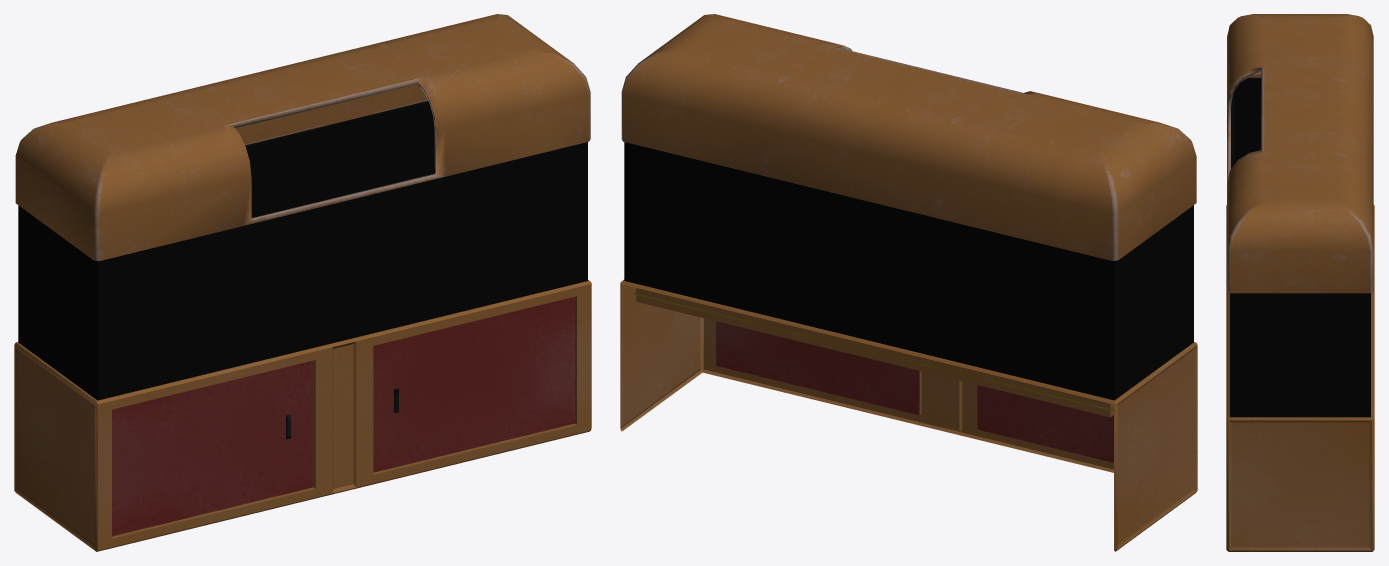
File: terrario_v2.fbx
3 views of the same model, side by side, from view 1: azimuth 30°, elevation 25°; view 2: azimuth 150°, elevation 25°; view 3: azimuth 270°, elevation 25° (orthographic). The views are drawn at different scales.
Visible parts, largest first — view 1: Vidrio_terrario, Base_terrario, Tapa_terrario; view 2: Vidrio_terrario, Tapa_terrario, Base_terrario, Tierra_terrario; view 3: Tapa_terrario, Base_terrario, Vidrio_terrario.
Boxes of the visible parts, box(x1,y1,x2,y2) form: Vidrio_terrario: box(18, 101, 587, 400); Base_terrario: box(14, 280, 591, 551); Tapa_terrario: box(15, 14, 590, 260); Vidrio_terrario: box(624, 142, 1193, 400); Tapa_terrario: box(621, 14, 1196, 260); Base_terrario: box(620, 279, 1197, 551); Tierra_terrario: box(633, 291, 1113, 410); Tapa_terrario: box(1227, 14, 1373, 293); Base_terrario: box(1226, 205, 1374, 551); Vidrio_terrario: box(1229, 77, 1370, 417).
Bounding box in the file's own units: 214 × 155 × 61.99.
3 materials, 2 textured.
